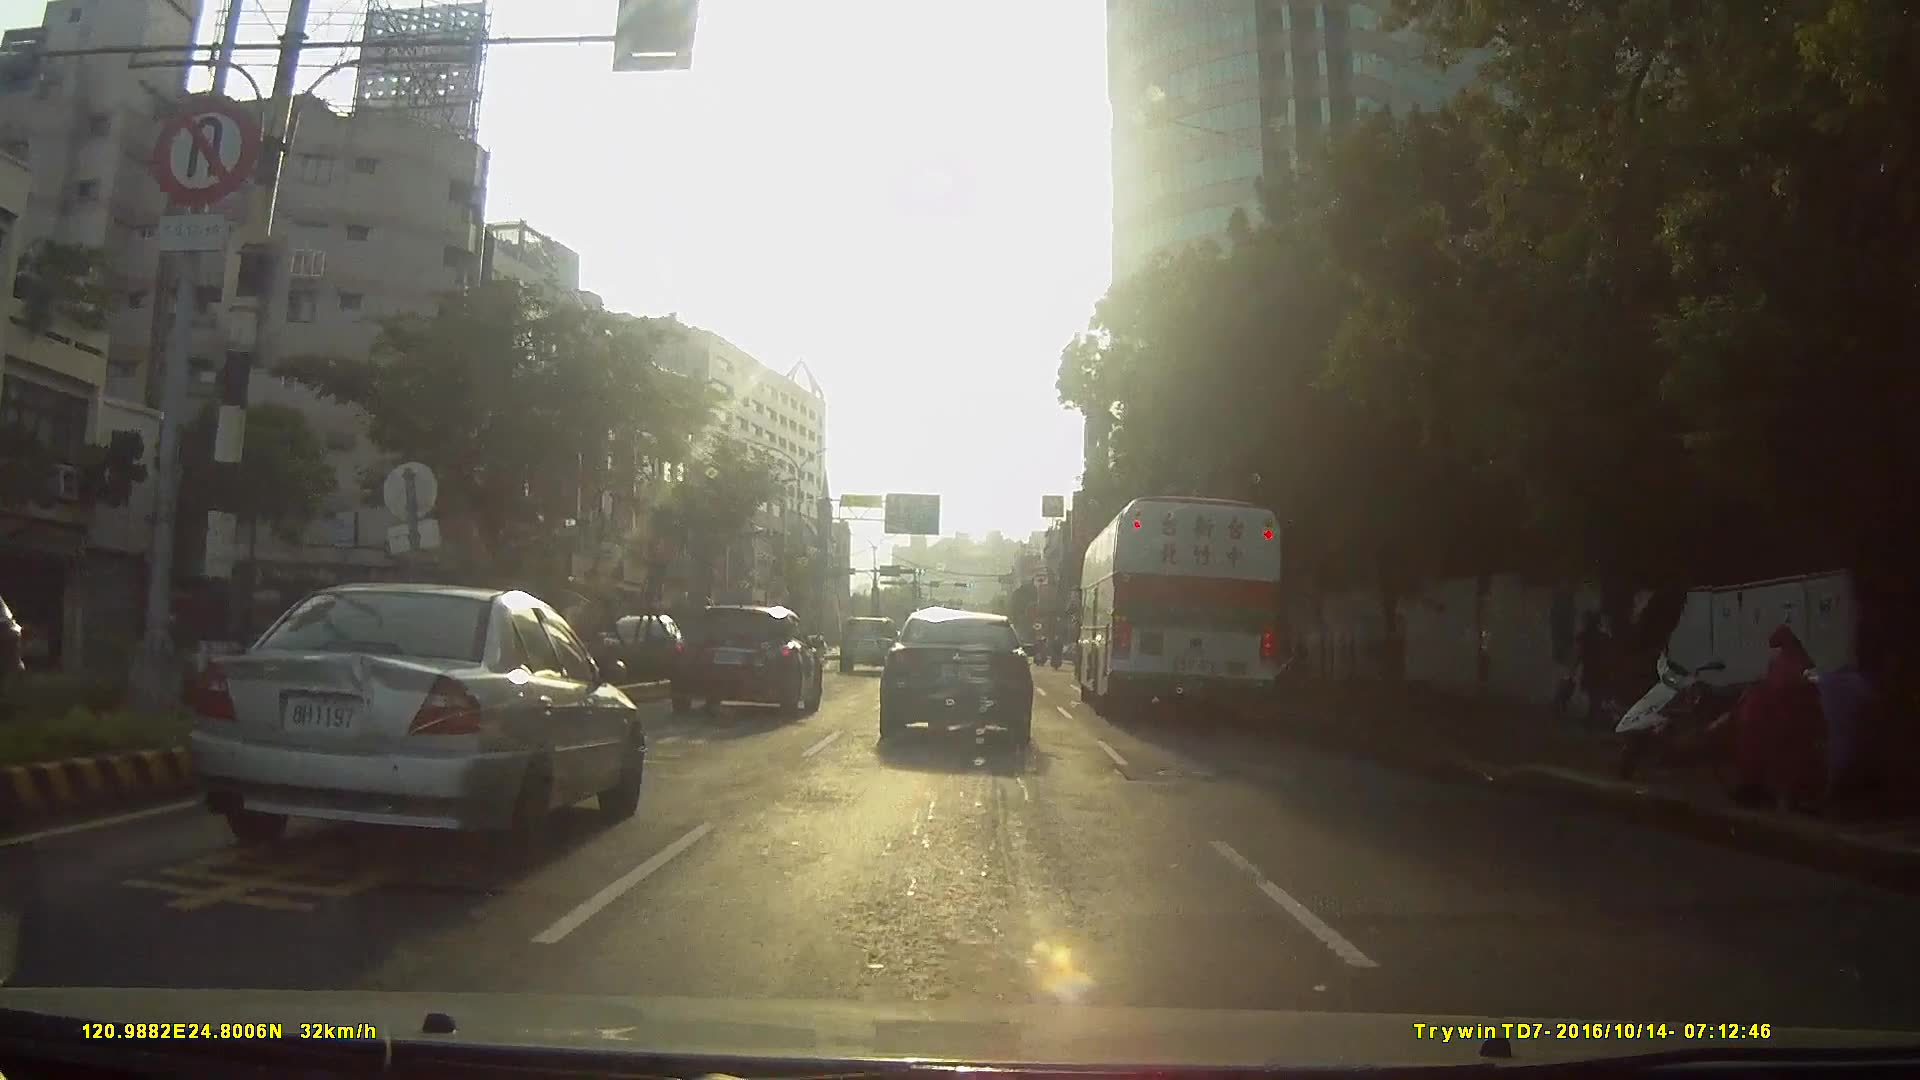pedestrian: (1589, 607, 1632, 734)
vehicle: (180, 582, 642, 873), (1078, 490, 1288, 721), (875, 609, 1034, 753), (667, 601, 822, 720), (1, 572, 38, 713), (836, 614, 900, 674)
